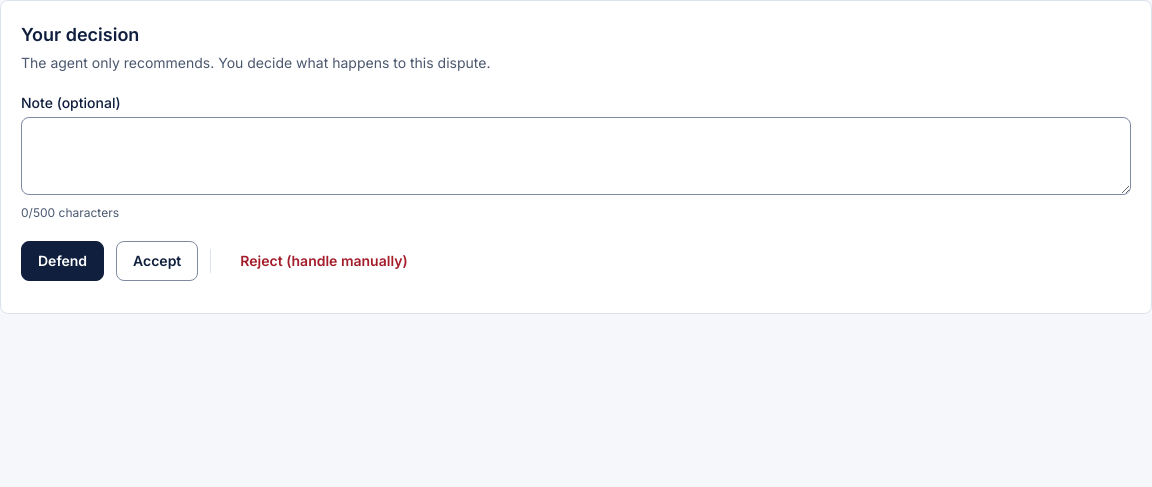
Test case: confirming Reject and Accept › disables Confirm and Cancel while the action runs
The image size is (1152, 487).
Click the button "Reject (handle manually)": [324, 261] box 223,241 -> 425,281
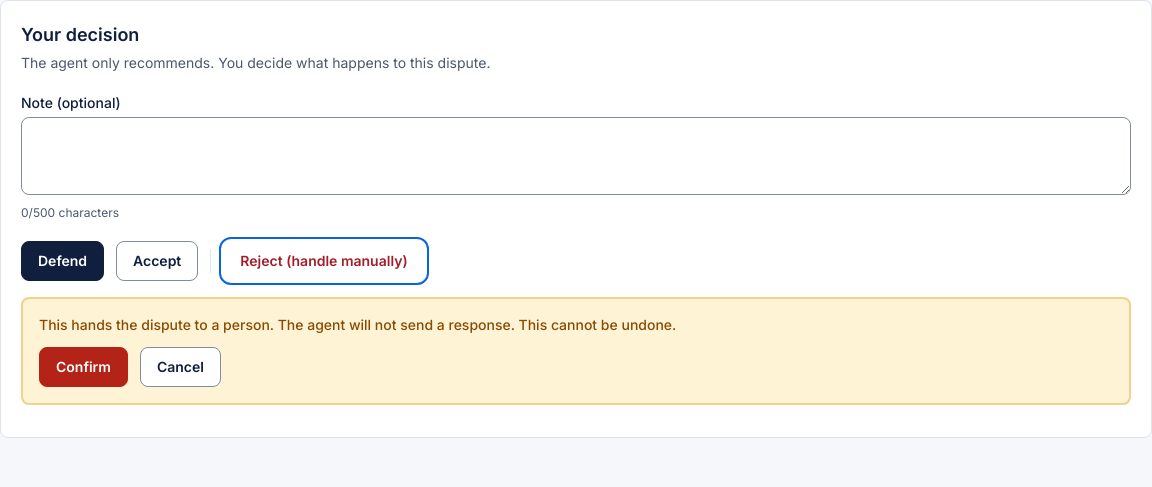
Click the button "Confirm": [83, 367] box 39,347 -> 128,387
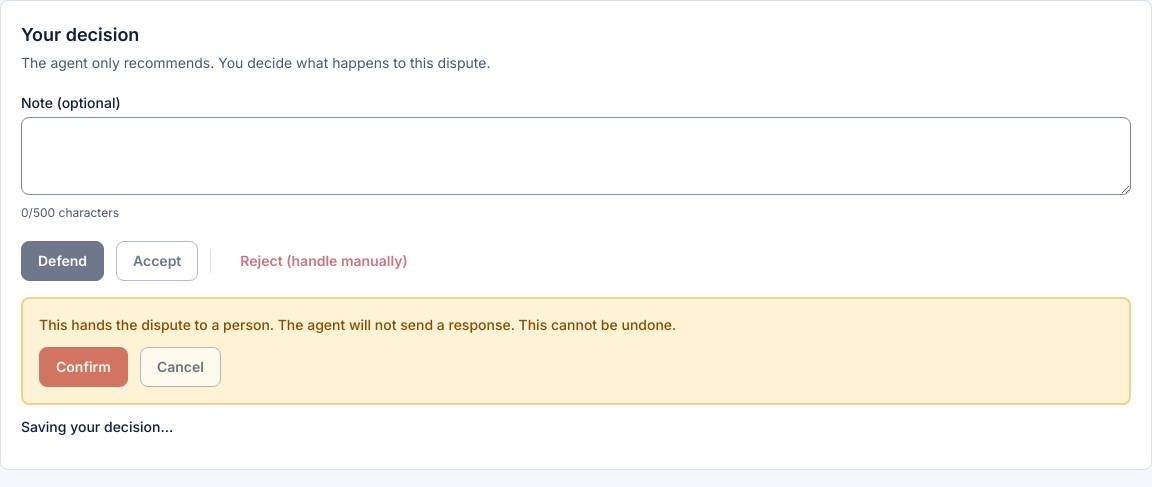
Expected: the text "Saving your decision…" is shown, 21,418 -> 173,435
Expected: the button "Confirm" is disabled, 39,347 -> 128,387
Expected: the button "Cancel" is disabled, 140,347 -> 221,387
